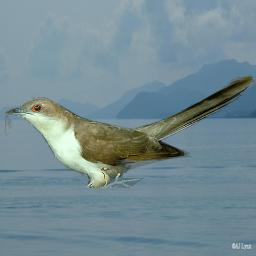Cuckoo: (5, 74, 255, 188)
